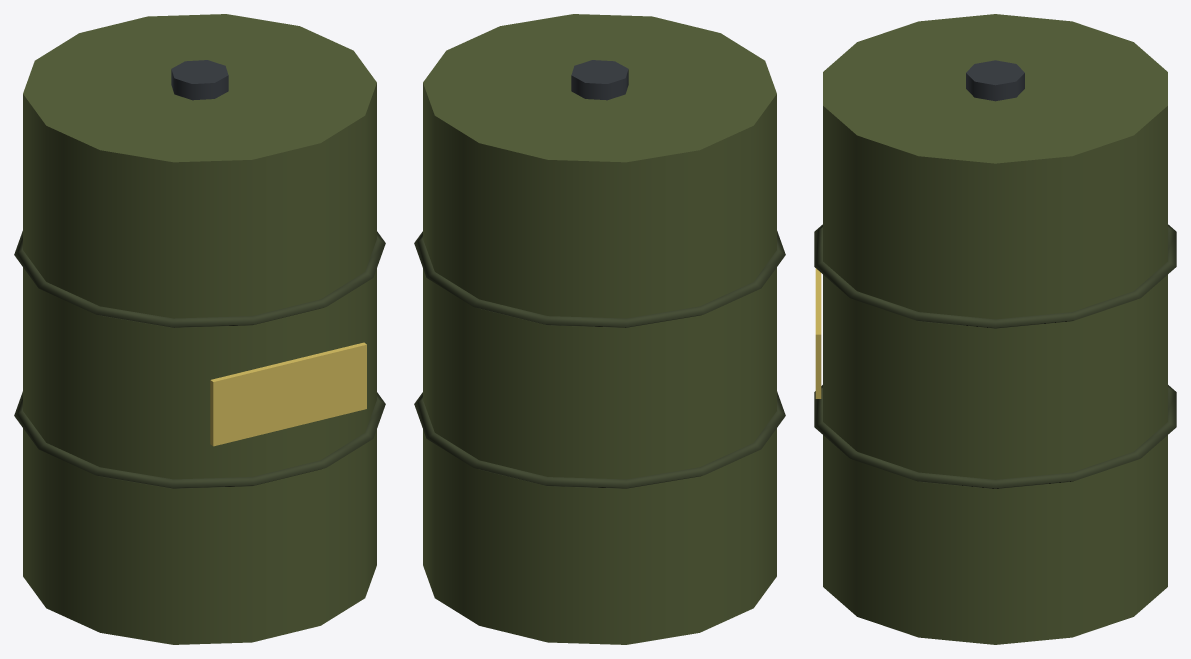
Rendered from fuel_drum.glb.
3 views of the same model, side by side, from view 1: azimuth 30°, elevation 25°; view 2: azimuth 150°, elevation 25°; view 3: azimuth 270°, elevation 25° (orthographic).
Visible parts, largest first — view 1: fuel_drum; view 2: fuel_drum; view 3: fuel_drum.
Boxes of the visible parts, box(x1,y1,x2,y2) form: fuel_drum: box(14, 14, 385, 644); fuel_drum: box(414, 14, 785, 644); fuel_drum: box(814, 14, 1176, 644).
Size of the model in its own units: 0.63 by 0.93 by 0.6142.
